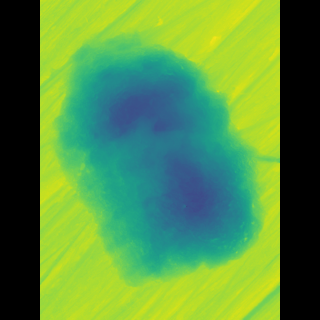Loch: (78, 16, 240, 285)
